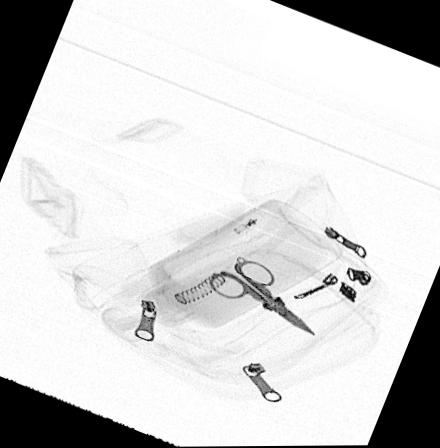Scissors: (206, 253, 314, 333)
